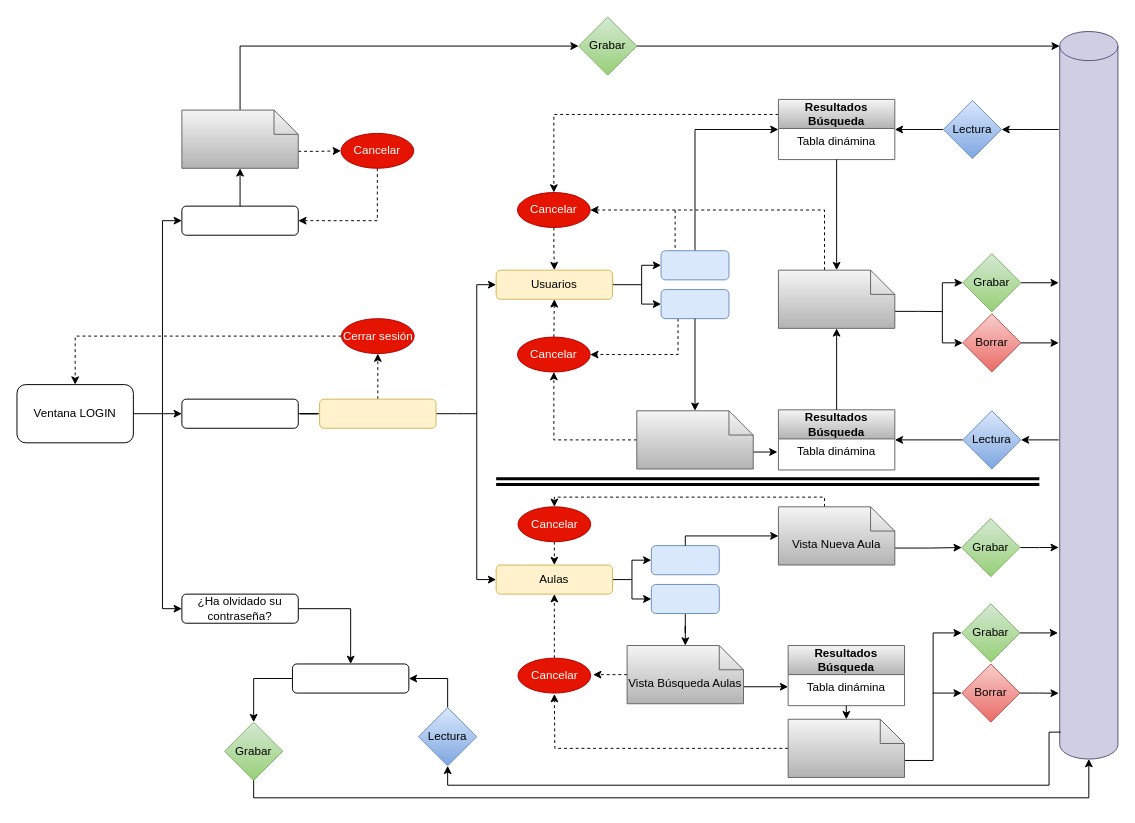
The diagram is 1135 pixels wide and 823 high, and some of its shapes have lost their labels. The shapes that lost their labels are listed below. From the top down, each one's box as (x1, y1, x2, y2) in pixels, then its label:
(181, 109, 298, 168): Vista registro Usuario
(181, 205, 298, 235): Nuevo Usuario
(660, 250, 729, 280): Solicitudes Pendientes
(660, 289, 729, 319): Consultar Usuarios
(777, 269, 895, 328): Vista Editar Usuario
(181, 398, 298, 428): Usuario / Contraseña
(319, 398, 436, 428): Administrador
(1059, 31, 1118, 759): BD
(636, 410, 753, 469): Vista Búsqueda Usuarios
(650, 545, 719, 575): Nueva Aula
(650, 583, 719, 614): Consultar Aulas
(291, 663, 409, 693): Formulario Email
(787, 718, 905, 777): Vista Editar Aula
